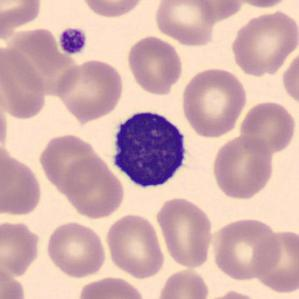Lymphocyte: (107, 104, 194, 193)
Platelets: (56, 26, 89, 56)
RBC: (179, 65, 248, 139), (209, 215, 282, 282), (228, 7, 298, 76), (154, 194, 215, 270), (54, 57, 125, 121), (210, 134, 276, 201), (63, 153, 126, 221), (104, 212, 166, 280), (36, 132, 103, 194), (44, 219, 108, 279), (0, 43, 49, 121), (124, 34, 184, 96), (237, 99, 298, 155), (250, 228, 298, 296), (152, 0, 217, 47), (0, 150, 44, 218), (0, 218, 43, 277), (154, 267, 211, 299), (76, 274, 148, 299), (0, 0, 44, 33), (182, 0, 246, 22), (78, 0, 149, 19), (281, 47, 299, 109), (0, 263, 28, 299), (200, 288, 262, 299), (227, 0, 295, 9), (0, 100, 10, 156)
